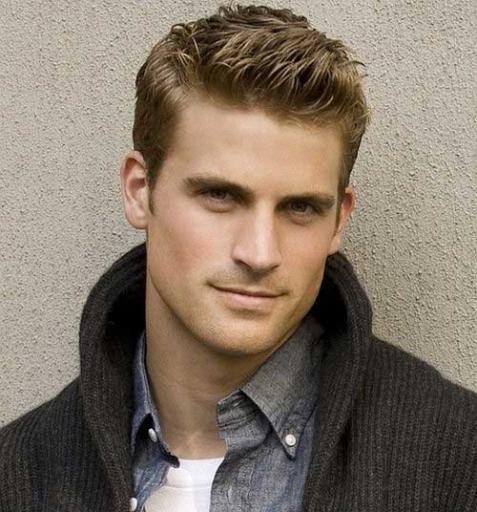left_eye: (281, 200, 326, 220)
left_lip_corner: (276, 289, 293, 307)
right_eye: (193, 184, 243, 208)
right_lip_corner: (203, 279, 222, 302)
